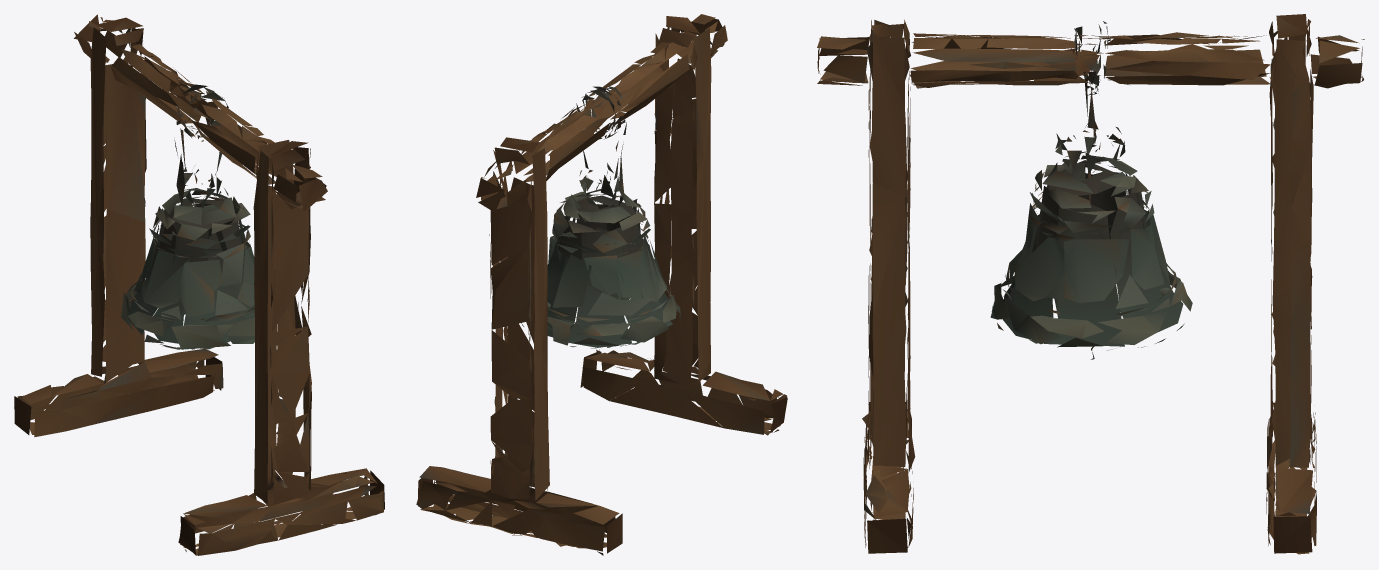
The model's file is bell.glb.
3 views of the same model, side by side, from view 1: azimuth 30°, elevation 25°; view 2: azimuth 150°, elevation 25°; view 3: azimuth 270°, elevation 25° (orthographic). The views are drawn at different scales.
Parts seen in each view (by area): view 1: bell; view 2: bell; view 3: bell.
Boxes of the visible parts, <box> form: bell: <box>14,14,384,555</box>; bell: <box>416,14,787,555</box>; bell: <box>817,14,1364,554</box>.
Bounding box in the file's own units: 3.13 × 6 × 6.26.
